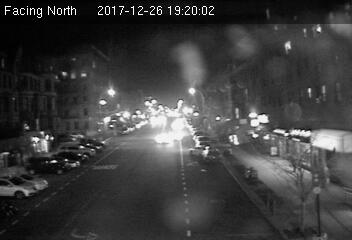car: (200, 146, 223, 163), (155, 131, 174, 145)
